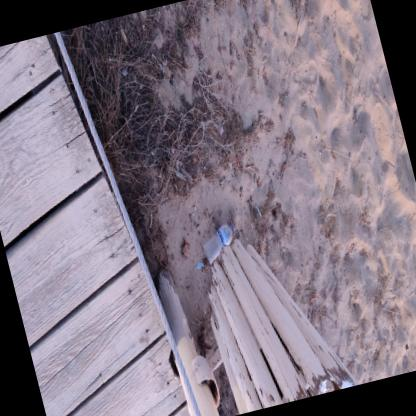Paper: (222, 375, 227, 380), (311, 296, 316, 300)
Plastic: (202, 220, 234, 264)
Waste: (196, 261, 203, 268)
